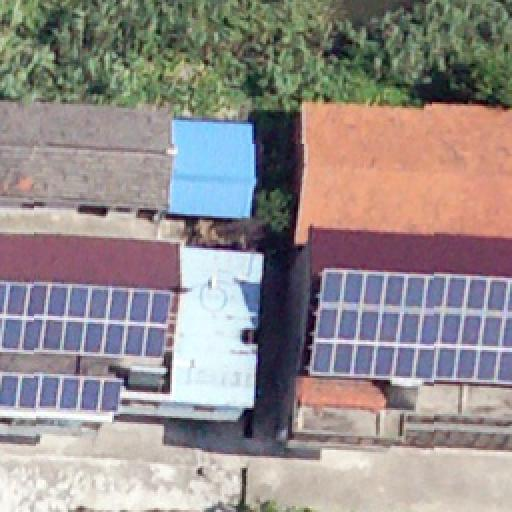solar-panel: (307, 271, 509, 385), (0, 281, 176, 359), (0, 372, 124, 412)
